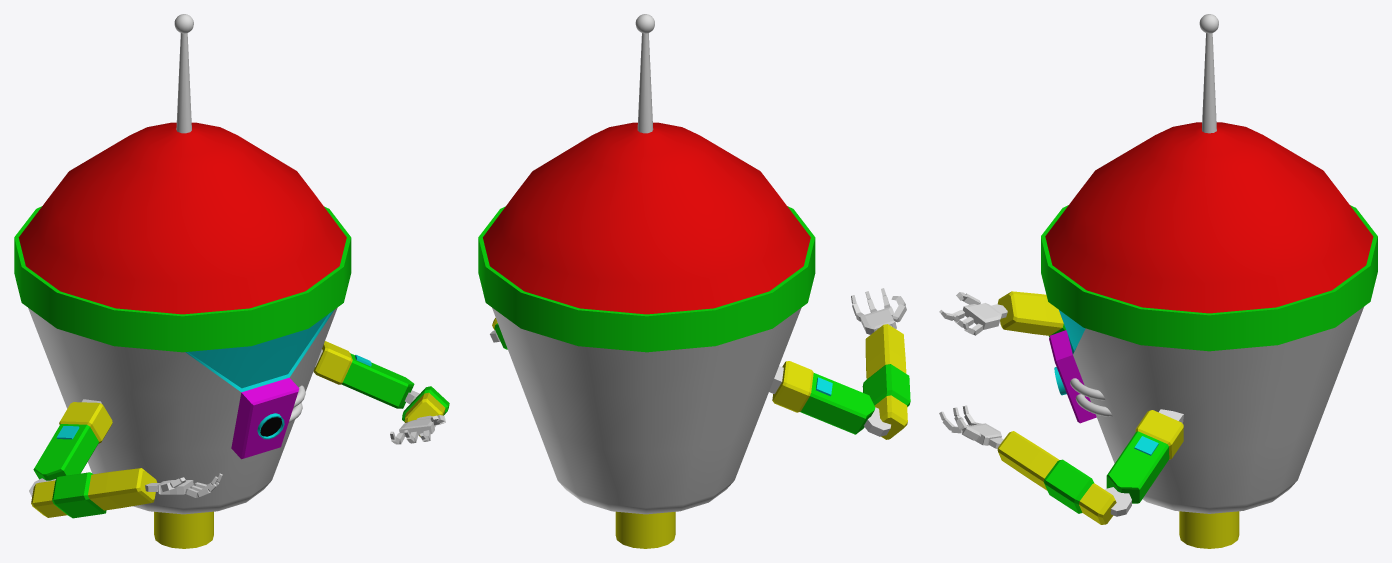
The model's file is WW_ServiceRobot_02_Char.fbx.
The picture shows the model from 3 angles, left to right: view 1: azimuth 30°, elevation 25°; view 2: azimuth 150°, elevation 25°; view 3: azimuth 270°, elevation 25°; orthographic projection.
Visible parts, largest first — view 1: ServiceRobotBase_GEO, ServiceRobotArmLeft31, ServiceRobotArmLeft33, ServiceRobotArmLeft1, ServiceRobotAntenna_GEO, ServiceRobotArmLeft3, ServiceRobotDial_GEO; view 2: ServiceRobotBase_GEO, ServiceRobotArmLeft33, ServiceRobotArmLeft31, ServiceRobotAntenna_GEO, ServiceRobotArmLeft34; view 3: ServiceRobotBase_GEO, ServiceRobotArmLeft3, ServiceRobotArmLeft1, ServiceRobotArmLeft31, ServiceRobotAntenna_GEO, ServiceRobotArmLeft34.
Boxes of the visible parts, x1,y1,x2,y2 form: ServiceRobotBase_GEO: [14, 122, 351, 548]; ServiceRobotArmLeft31: [31, 468, 157, 518]; ServiceRobotArmLeft33: [33, 402, 112, 480]; ServiceRobotArmLeft1: [313, 341, 414, 408]; ServiceRobotAntenna_GEO: [176, 33, 191, 133]; ServiceRobotArmLeft3: [402, 386, 449, 436]; ServiceRobotDial_GEO: [257, 413, 284, 439]; ServiceRobotBase_GEO: [478, 122, 815, 548]; ServiceRobotArmLeft33: [772, 361, 875, 434]; ServiceRobotArmLeft31: [862, 324, 910, 439]; ServiceRobotAntenna_GEO: [637, 33, 653, 133]; ServiceRobotArmLeft34: [860, 306, 896, 334]; ServiceRobotBase_GEO: [1041, 122, 1377, 548]; ServiceRobotArmLeft3: [997, 431, 1116, 524]; ServiceRobotArmLeft1: [1106, 410, 1183, 503]; ServiceRobotArmLeft31: [997, 291, 1065, 336]; ServiceRobotAntenna_GEO: [1202, 33, 1216, 133]; ServiceRobotArmLeft34: [963, 303, 1001, 329].
Bounding box in the file's own units: 99.81 × 120 × 91.5.
